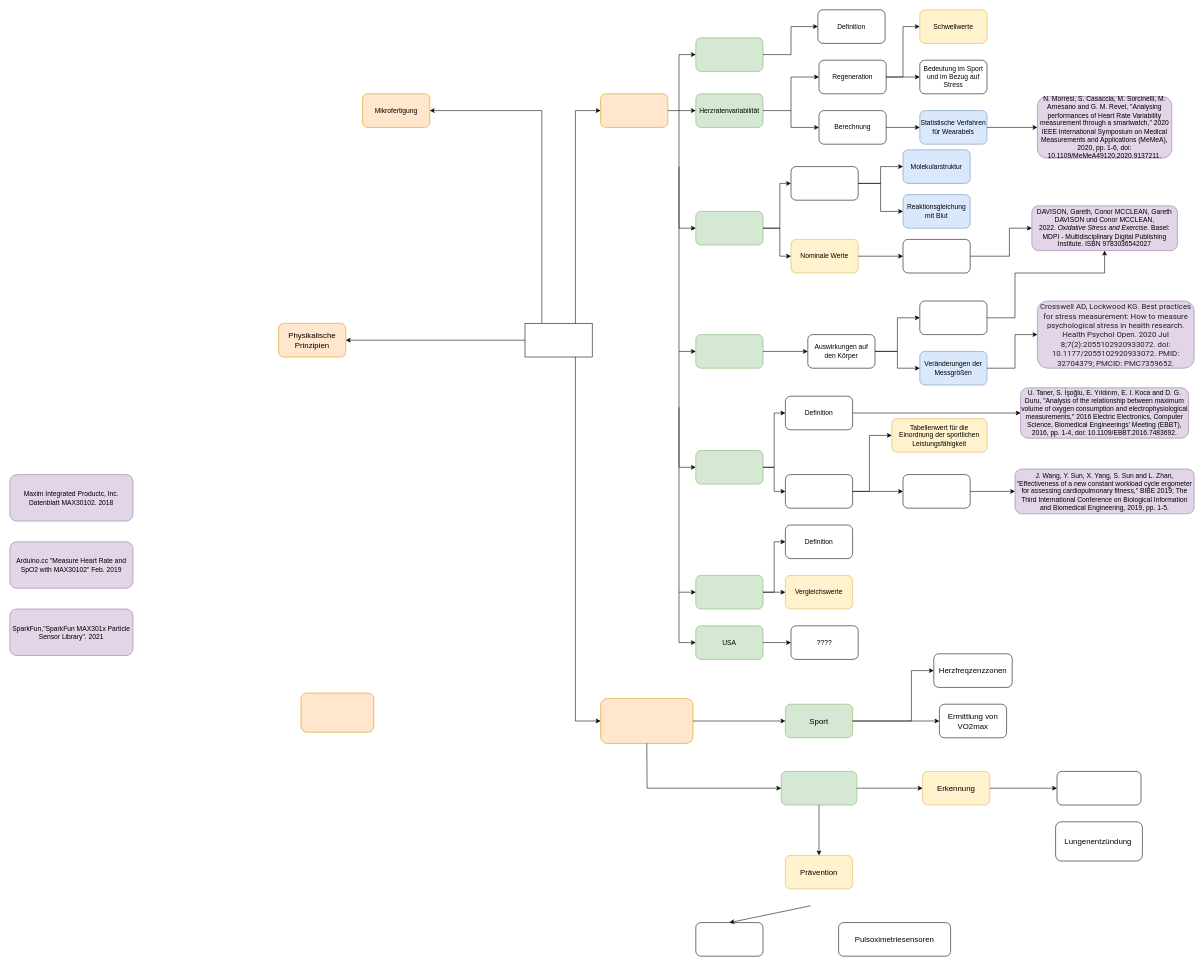
This 1204x966 diagram has some shape labels left out. The shapes that lost their labels are listed below. From the top down, each one's centre as x and y in pixels, then its label:
At point (729, 54): "Herzrate".
At point (634, 110): "Medizinische Bedeutung".
At point (824, 183): "Hämoglobin".
At point (729, 228): "SpO2".
At point (936, 256): "Aussagekraft für die Medizin".
At point (953, 317): "Gesundheitliche Folgen".
At point (558, 340): "Herzratensensor MAX30104".
At point (729, 351): "Stress".
At point (729, 467): "VO2max".
At point (819, 491): "Bedeutung für den Sport".
At point (936, 491): "Methoden zur Erhöhung".
At point (729, 592): "Fitness/MET".
At point (337, 712): "Softwaretechnische Umsetzung".
At point (646, 720): "Anwendungsbesipiele".
At point (819, 788): "Gesundheitswesen".
At point (1098, 788): "Schlafapnoesyndrom".
At point (729, 939): "Smarwatches".
